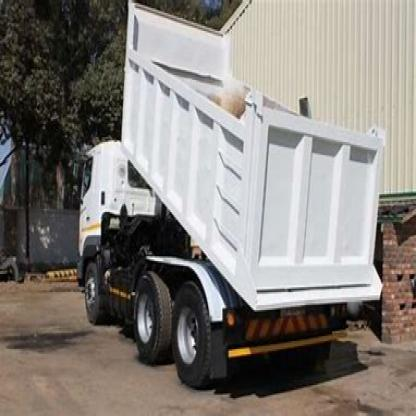dump_truck: (56, 5, 397, 393)
